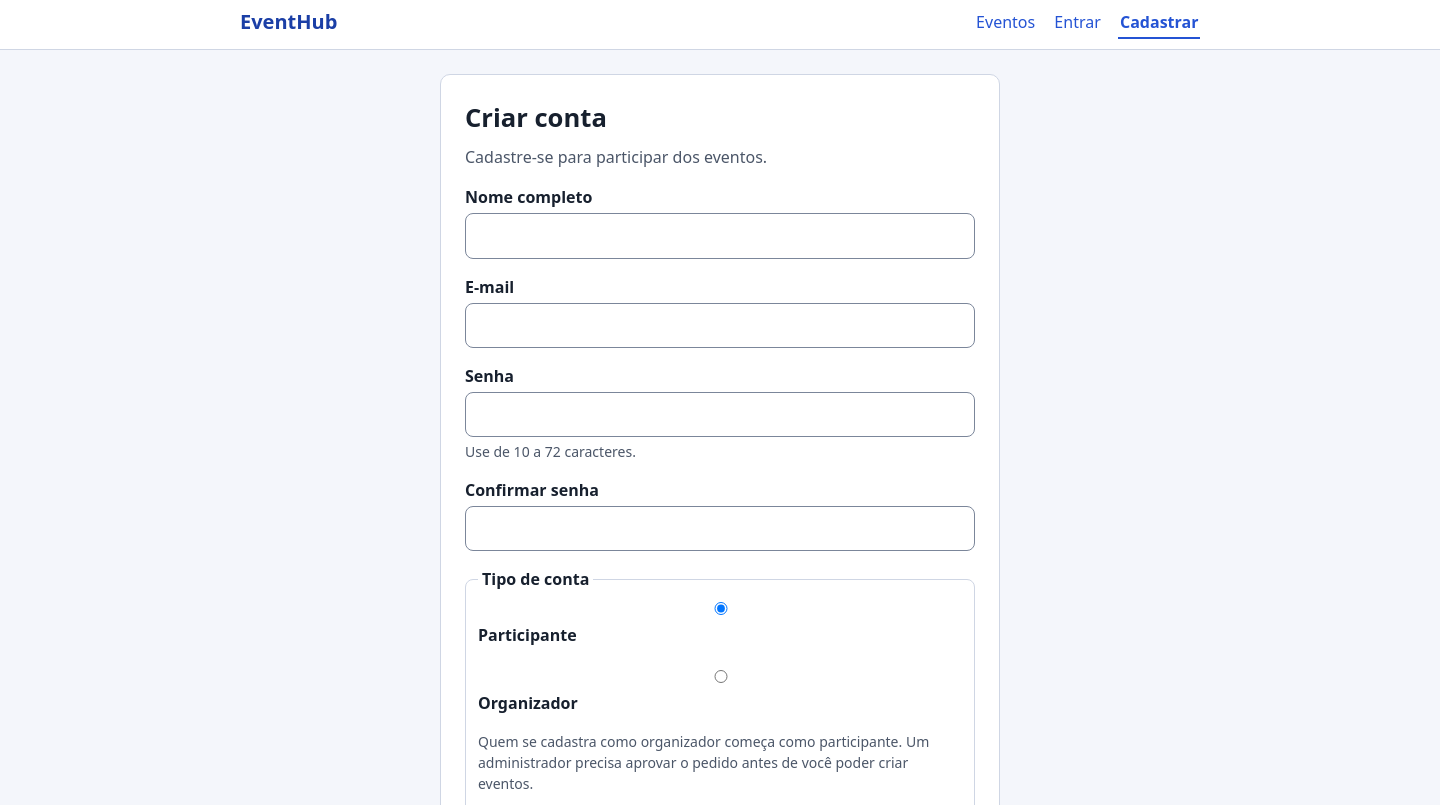
Página de cadastro › valida senha curta e confirmação diferente
In the field labelled "Nome completo": point(720, 236) left=465, top=213, right=975, bottom=259, type "Maria Silva"
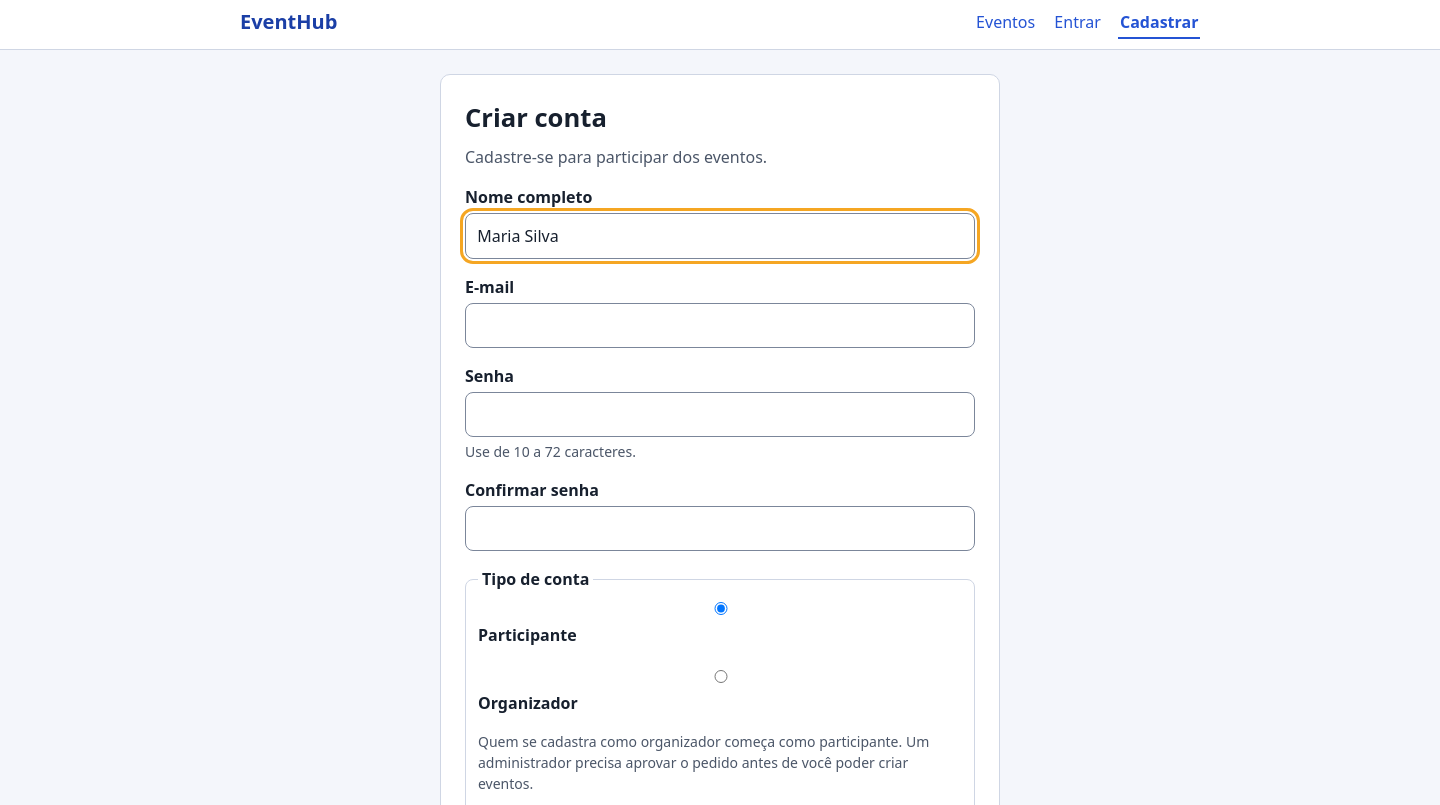
In the field labelled "E-mail": point(720, 325) left=465, top=303, right=975, bottom=348, type "maria@example.com"
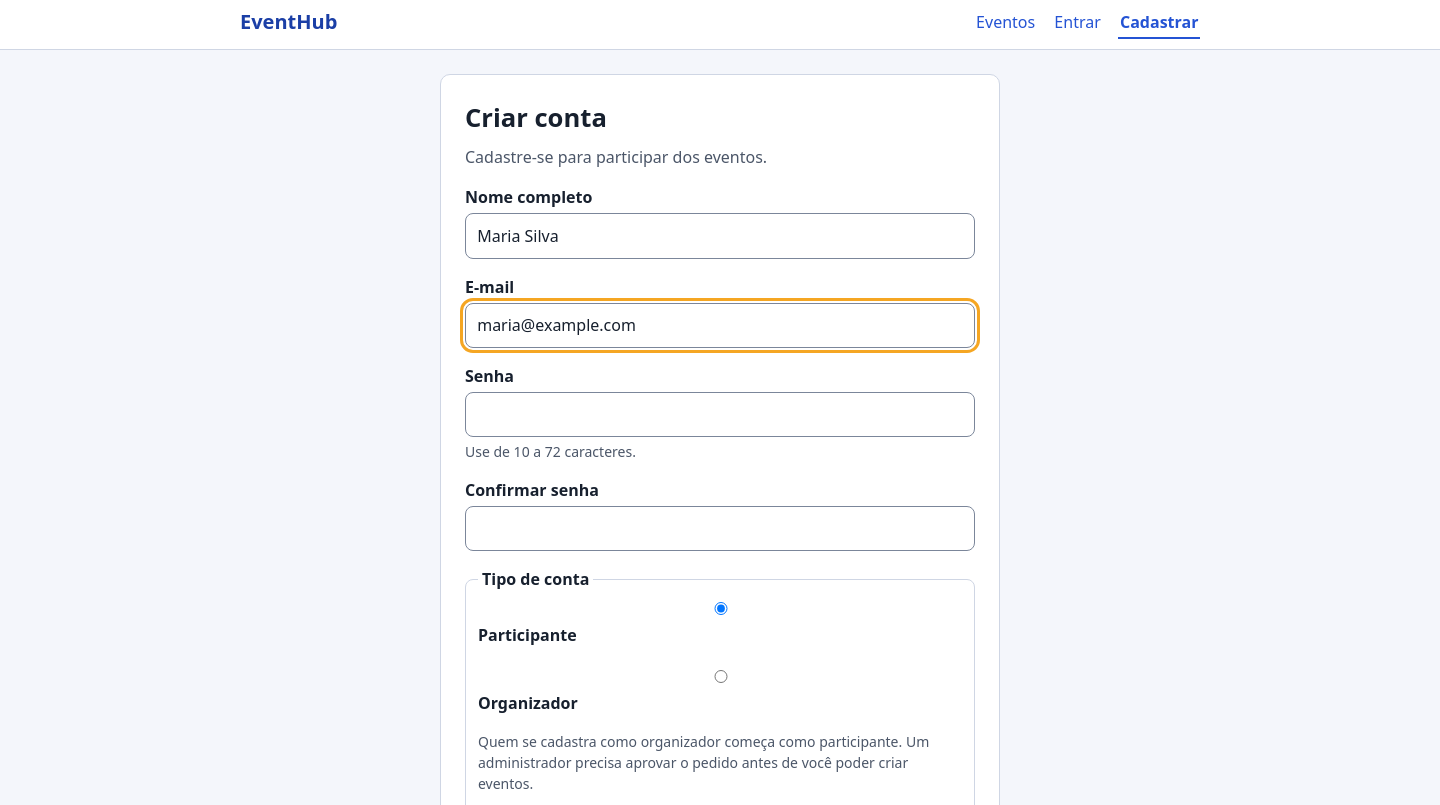
In the password field labelled "Senha": point(720, 414) left=465, top=392, right=975, bottom=437, type "curta"
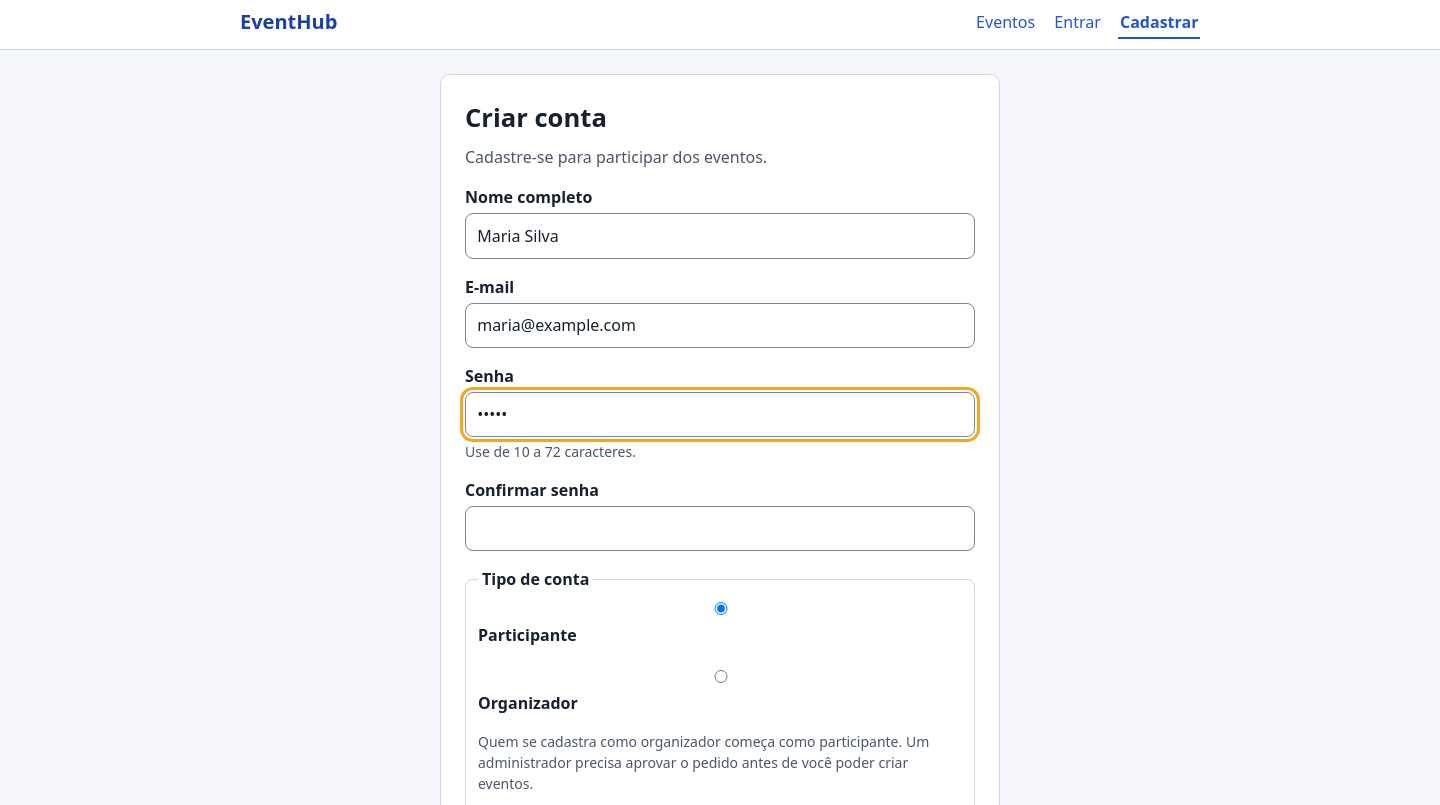
In the password field labelled "Confirmar senha": point(720, 529) left=465, top=506, right=975, bottom=551, type "outra"
(page scrolled)
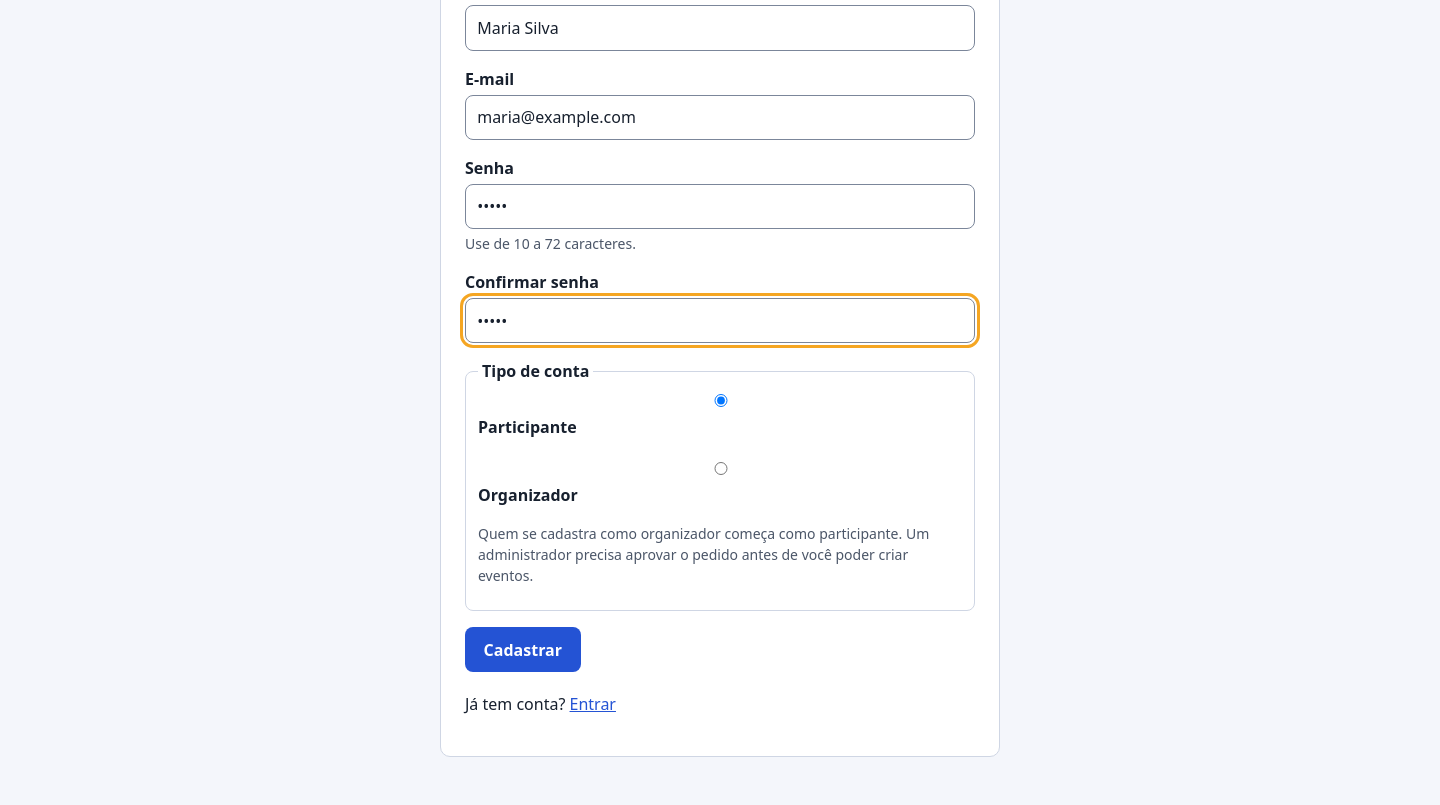
Click the button "Cadastrar": point(523, 650) left=465, top=627, right=581, bottom=672
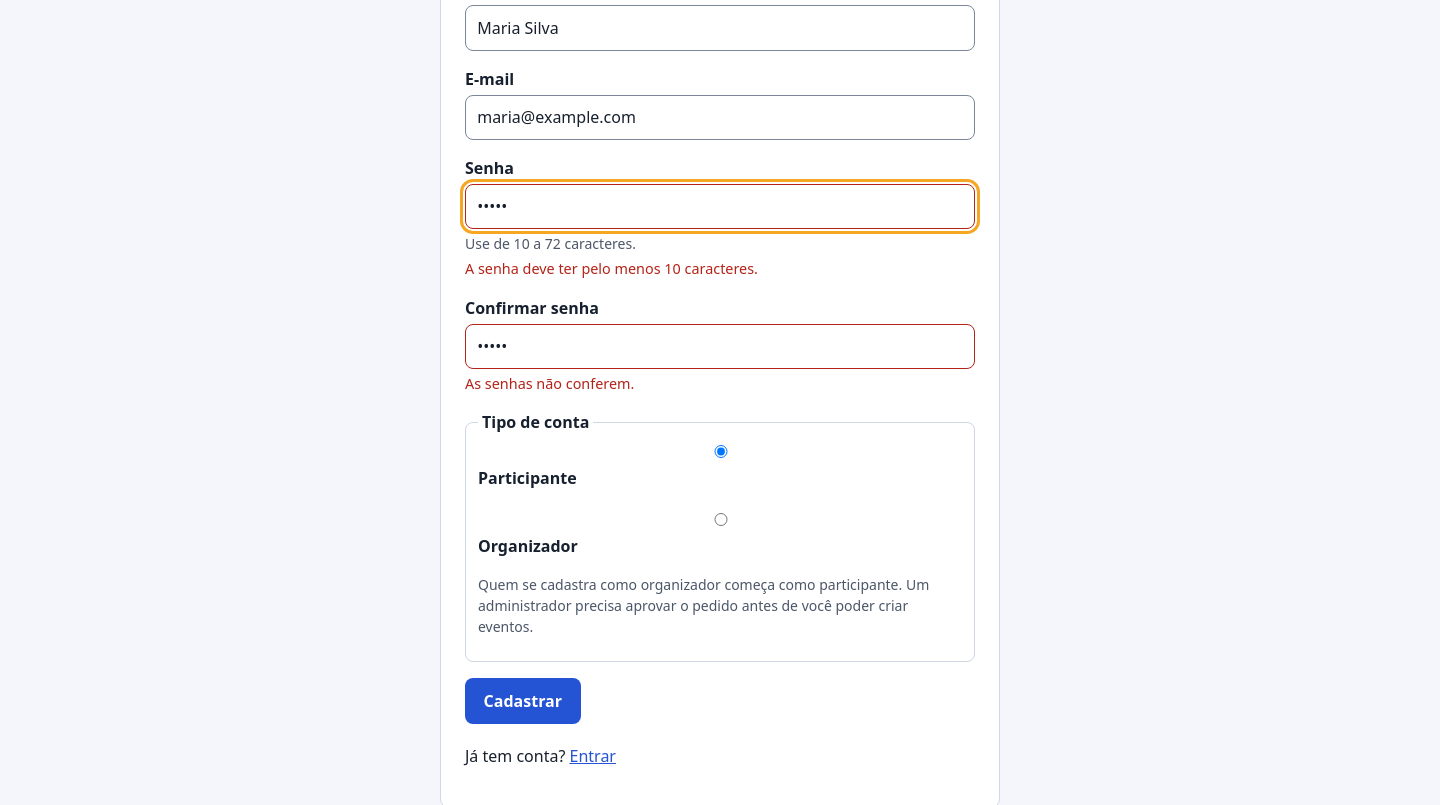
Check: the text "A senha deve ter pelo menos 10 caracteres." is shown, box left=465, top=259, right=758, bottom=278
Check: the text "As senhas não conferem." is shown, box left=465, top=374, right=634, bottom=393
